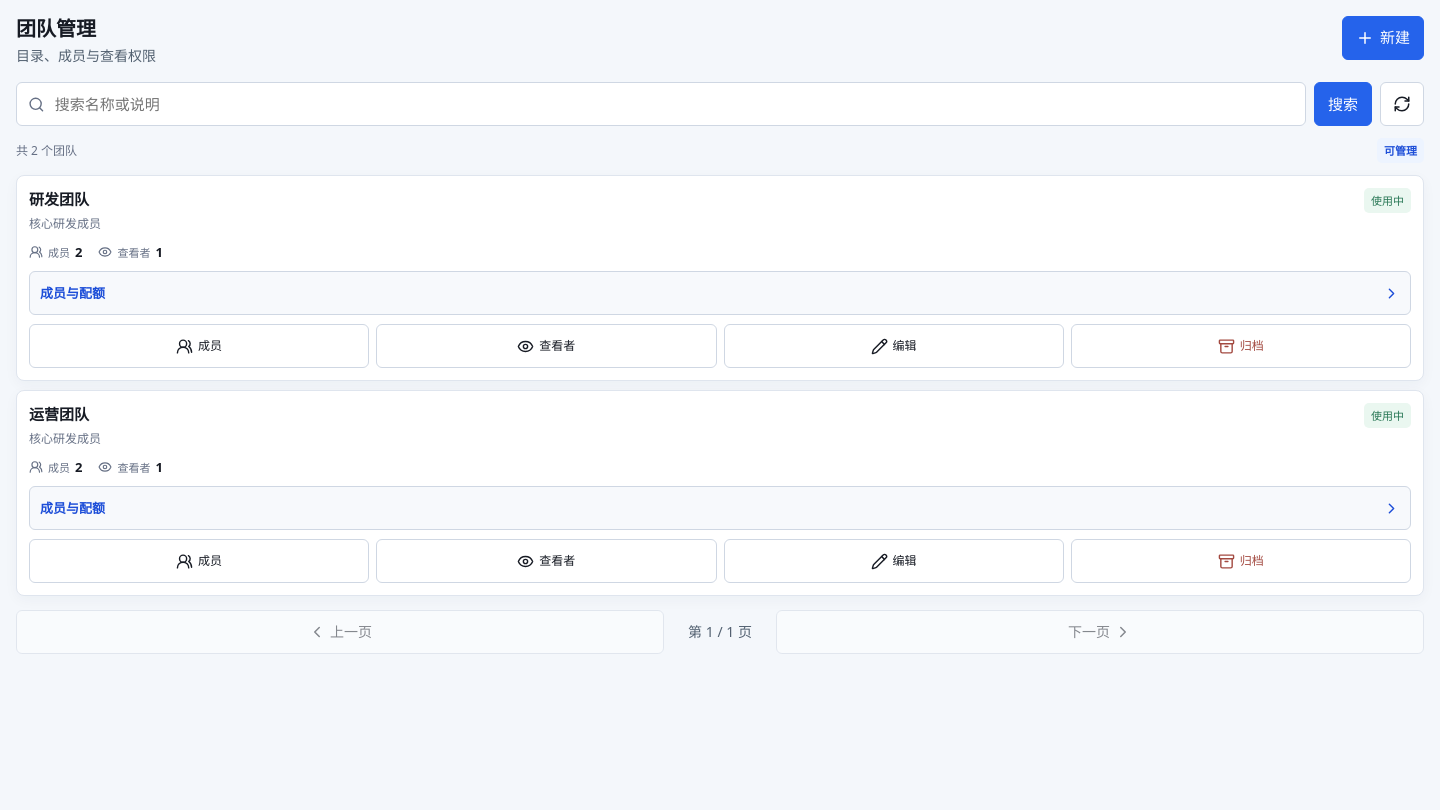
Test: MobileUserGroupsView › opens another archive confirmation while the previous success refresh is pending
Click the button with test id "archive-user-group-3" at (1241, 346), box [1071, 324, 1411, 368]
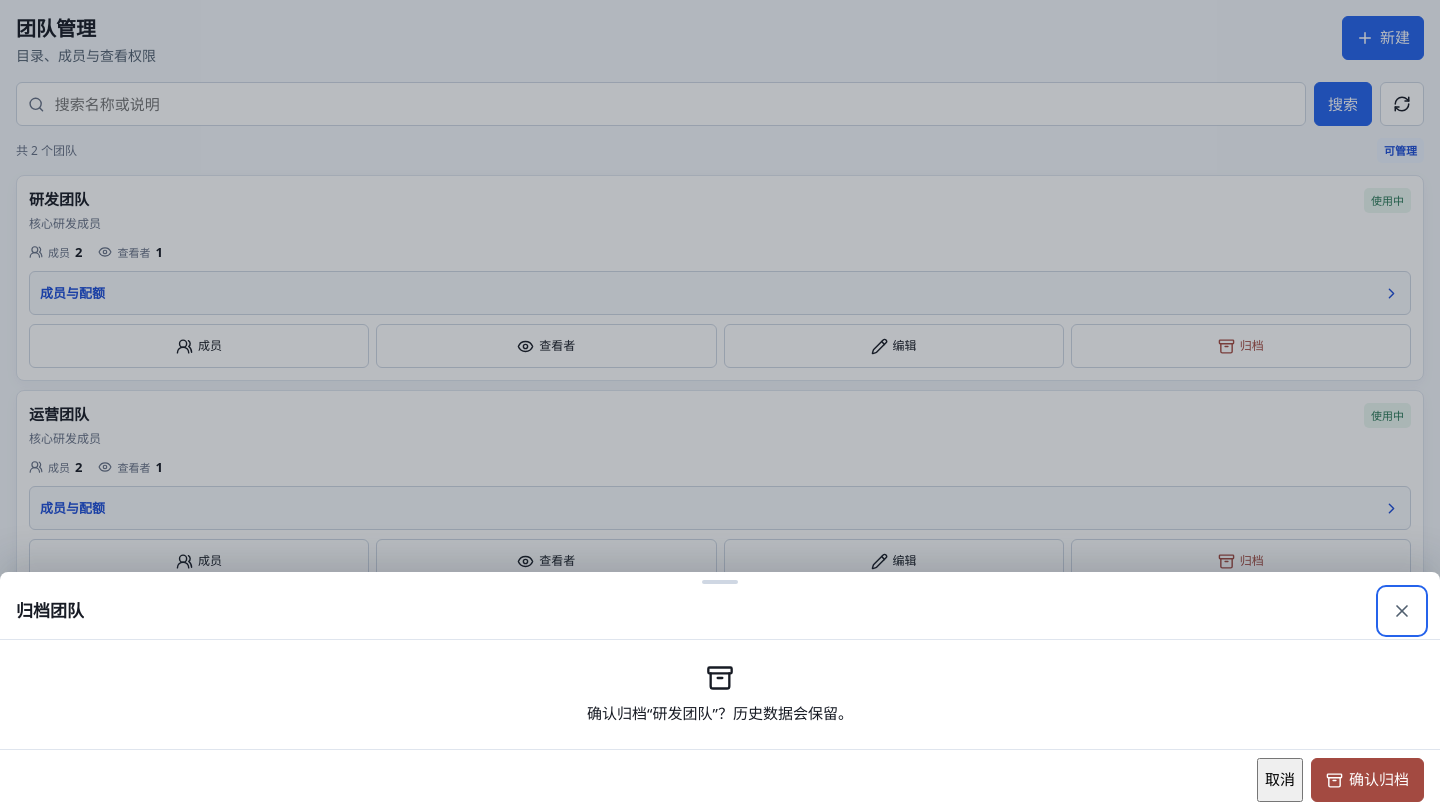
Click the button with test id "confirm-archive-user-group" at (1368, 780), box [1311, 758, 1424, 802]
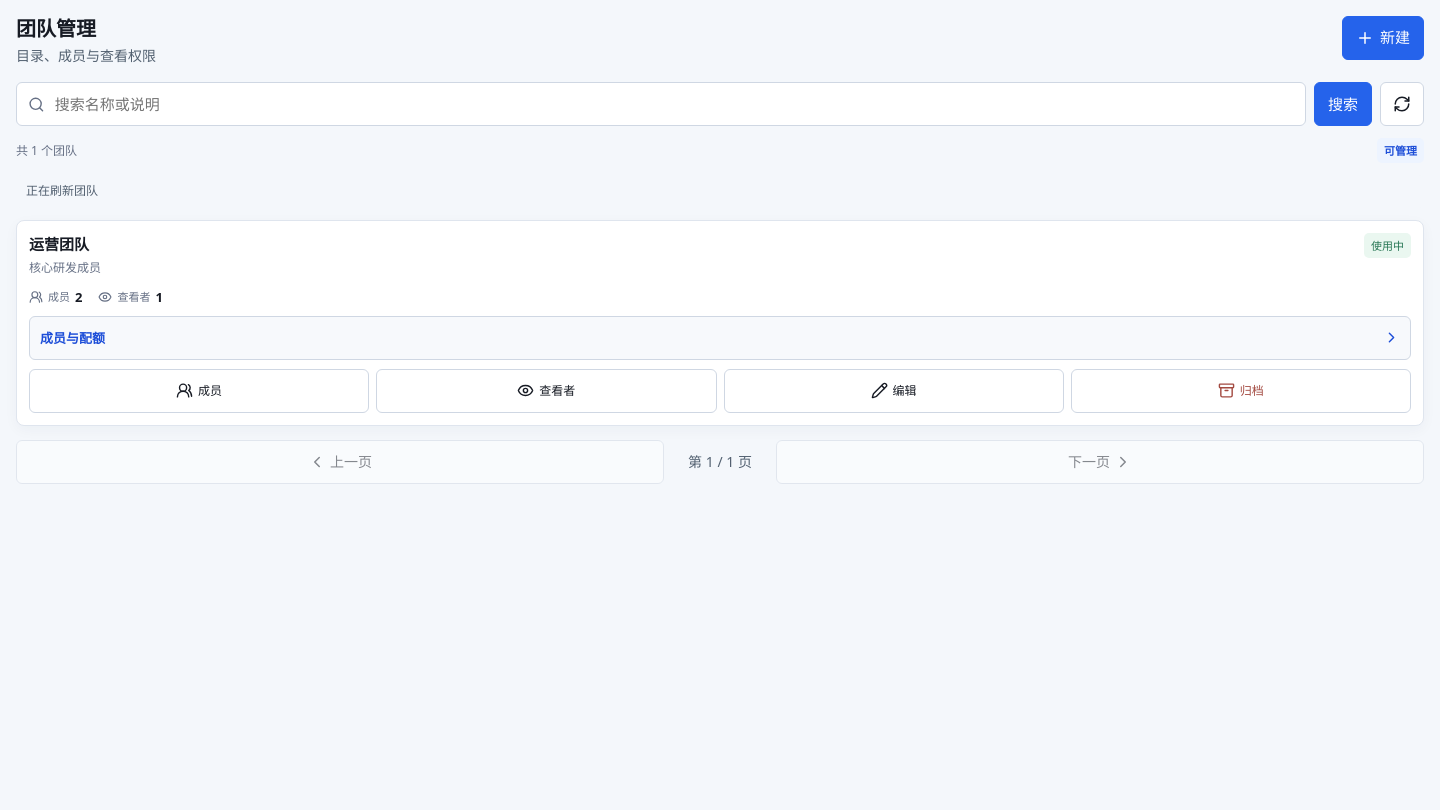
Click the button with test id "archive-user-group-4" at (1241, 391), box [1071, 369, 1411, 413]
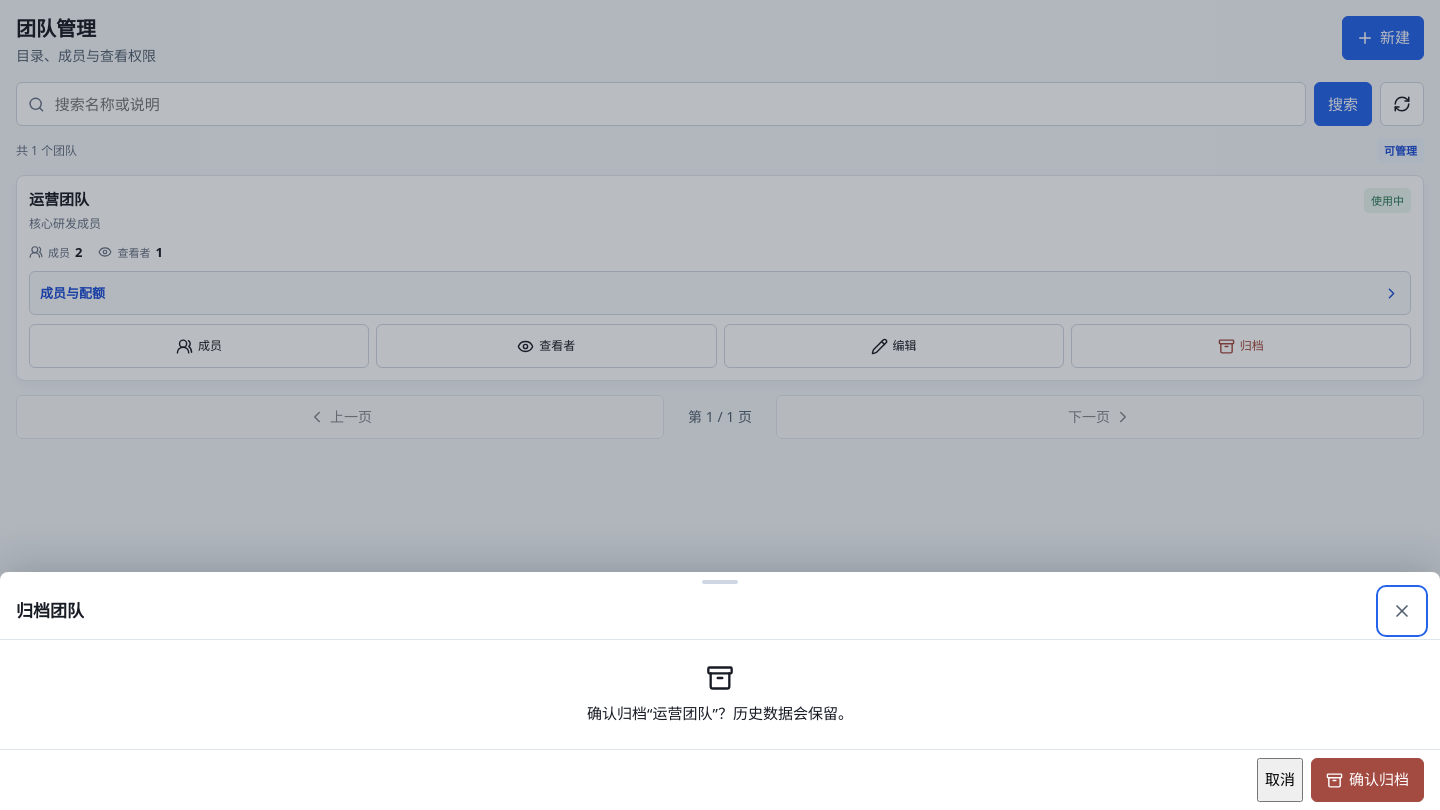
Result: the button with test id "confirm-archive-user-group" is enabled at [1311, 758, 1424, 802]
